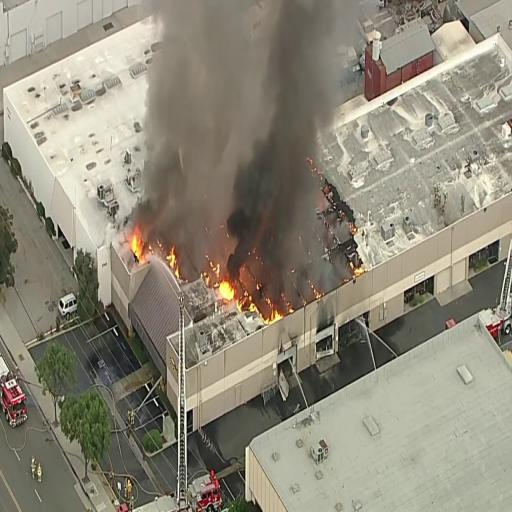fire: (125, 238, 153, 272), (215, 276, 235, 306)
smoke: (178, 14, 295, 238)
